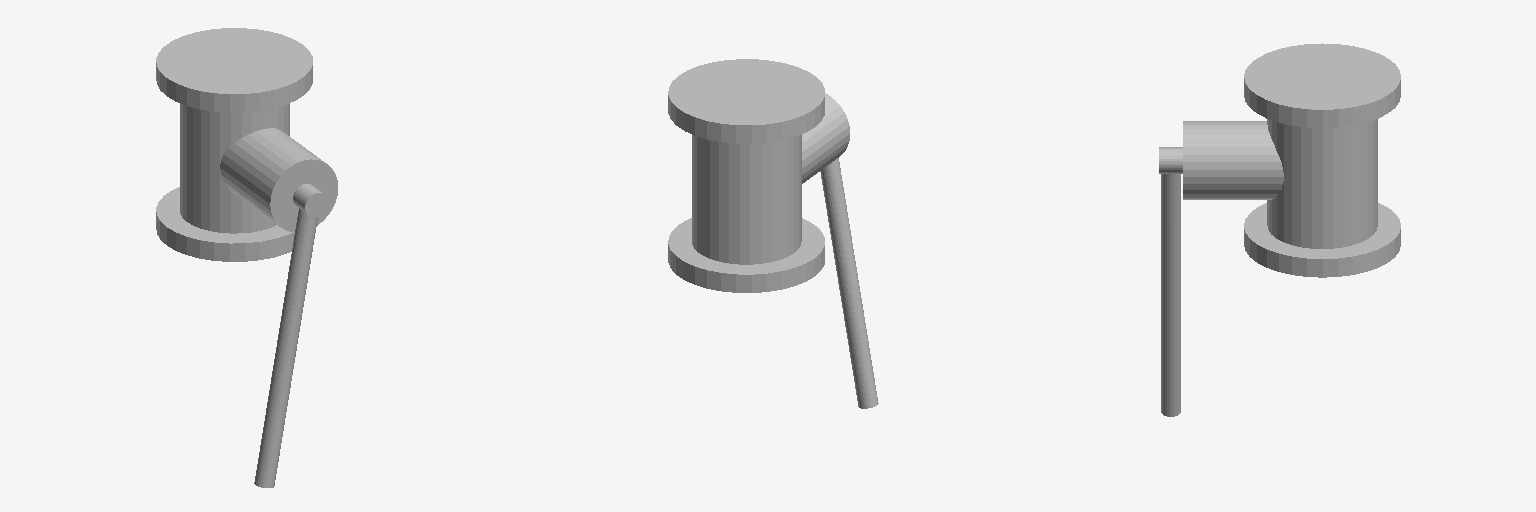
The model's file is huldra-mini.obj.
3 renders of one model, left to right at view 1: azimuth 30°, elevation 25°; view 2: azimuth 150°, elevation 25°; view 3: azimuth 270°, elevation 25°, orthographic.
Visible parts, largest first — view 1: /62-2828OF_Mesh.005; view 2: /62-2828OF_Mesh.005; view 3: /62-2828OF_Mesh.005.
Part boxes in pixels (bbox=[...]): /62-2828OF_Mesh.005: bbox=[156, 28, 337, 487]; /62-2828OF_Mesh.005: bbox=[668, 59, 878, 408]; /62-2828OF_Mesh.005: bbox=[1159, 43, 1400, 416].
Bounding box in the file's own units: 0.108 × 0.2715 × 0.1664.